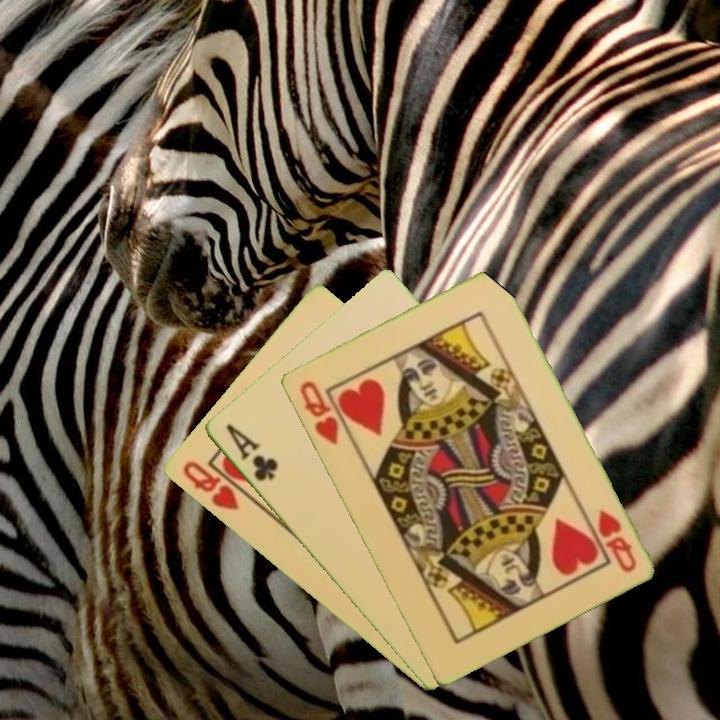Ac: (222, 420, 281, 485)
Qh: (178, 457, 242, 514), (295, 377, 341, 448), (593, 506, 639, 576)
